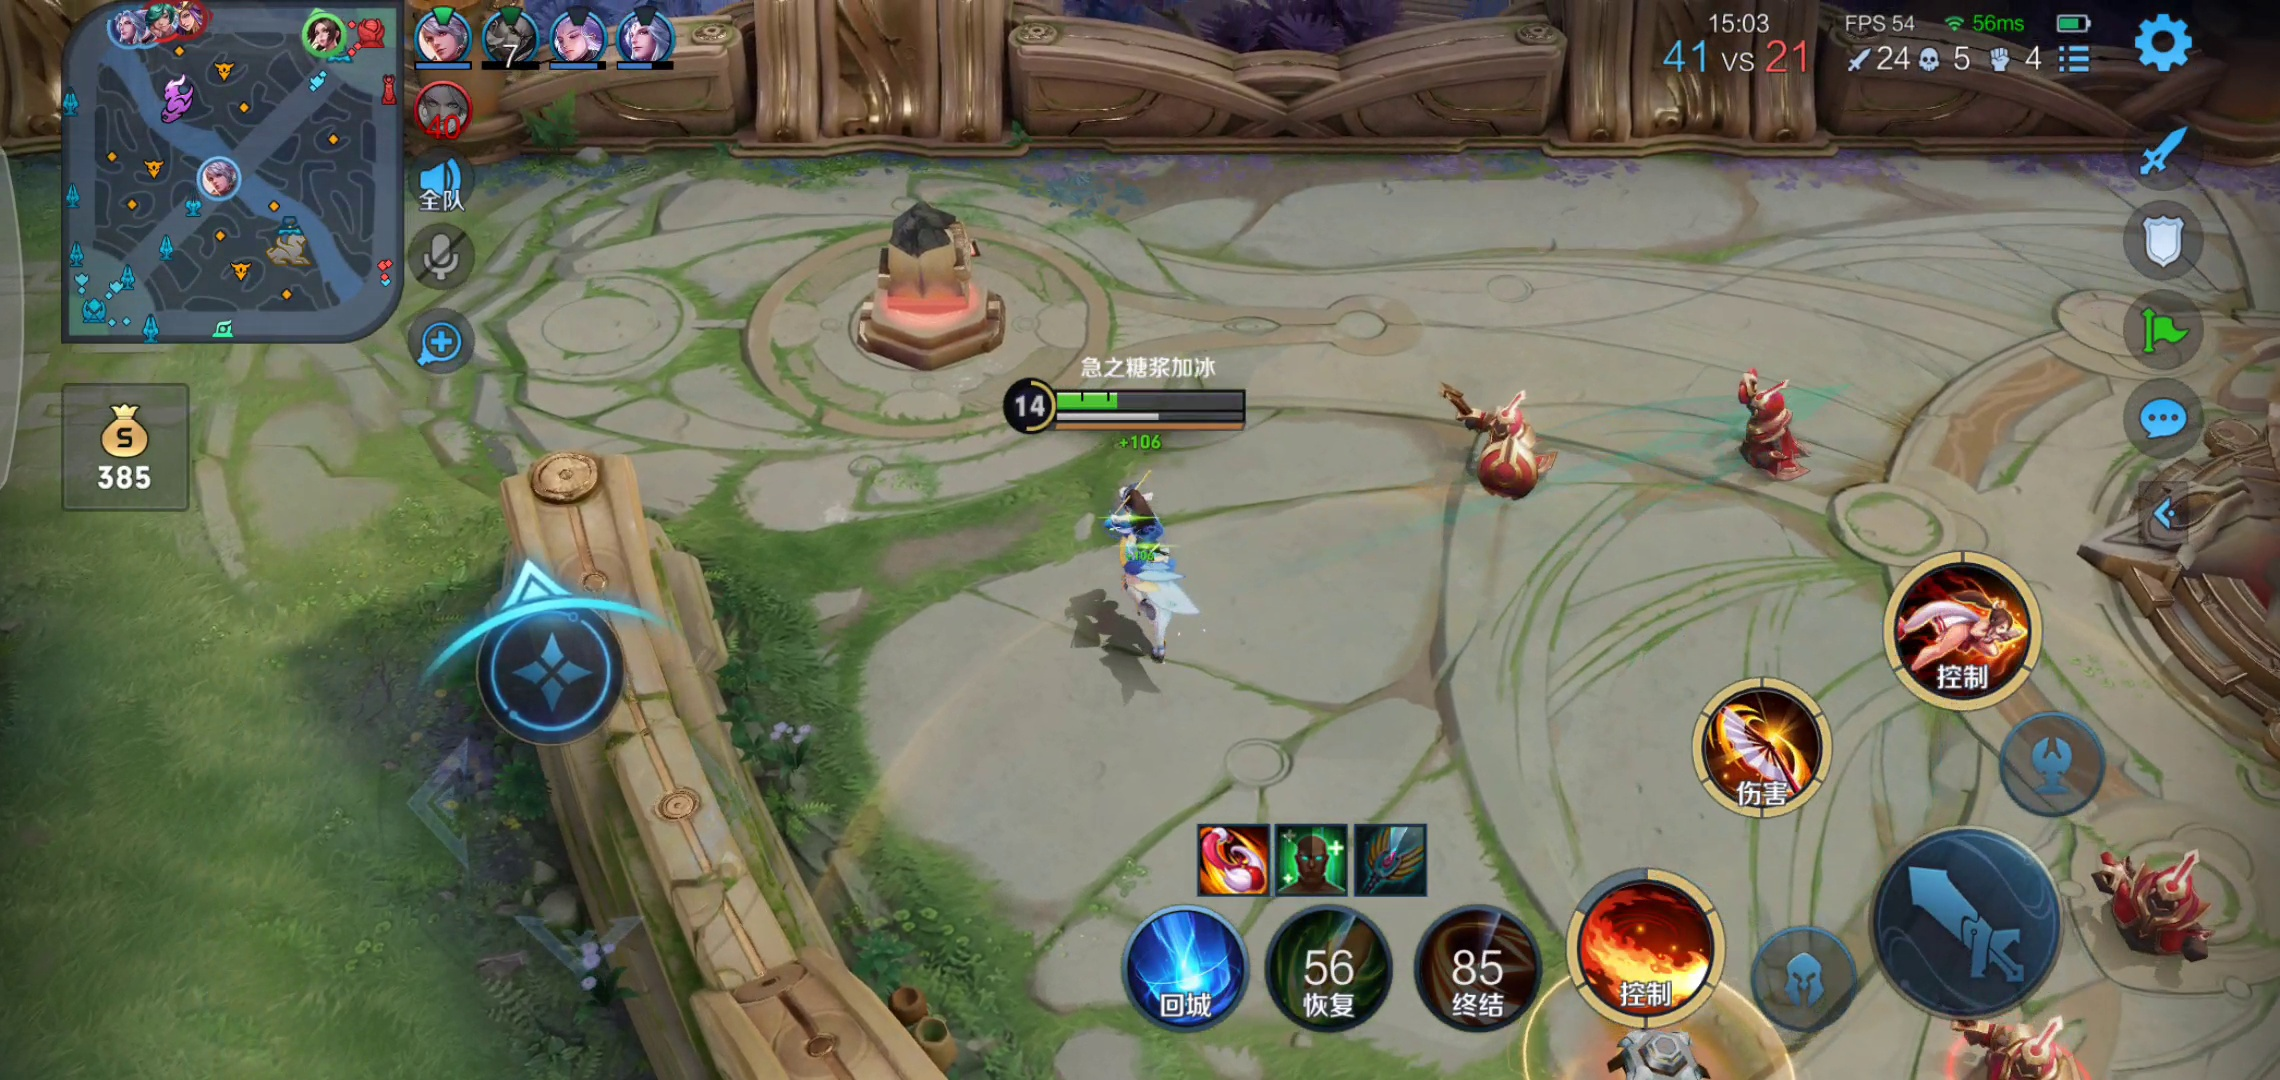crystal: (2082, 369, 2280, 722)
hero: (1073, 470, 1226, 677)
soldier: (2082, 842, 2239, 975), (1418, 375, 1562, 501), (1725, 360, 1826, 488), (1935, 1007, 2074, 1080)
tower: (842, 198, 1006, 374)
